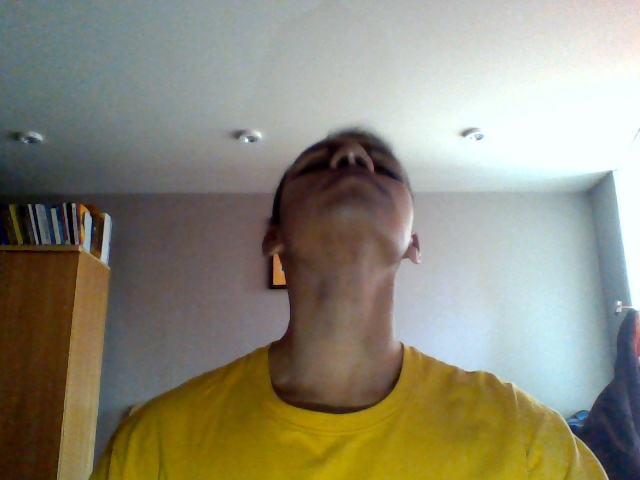no_mask: (271, 144, 420, 260)
